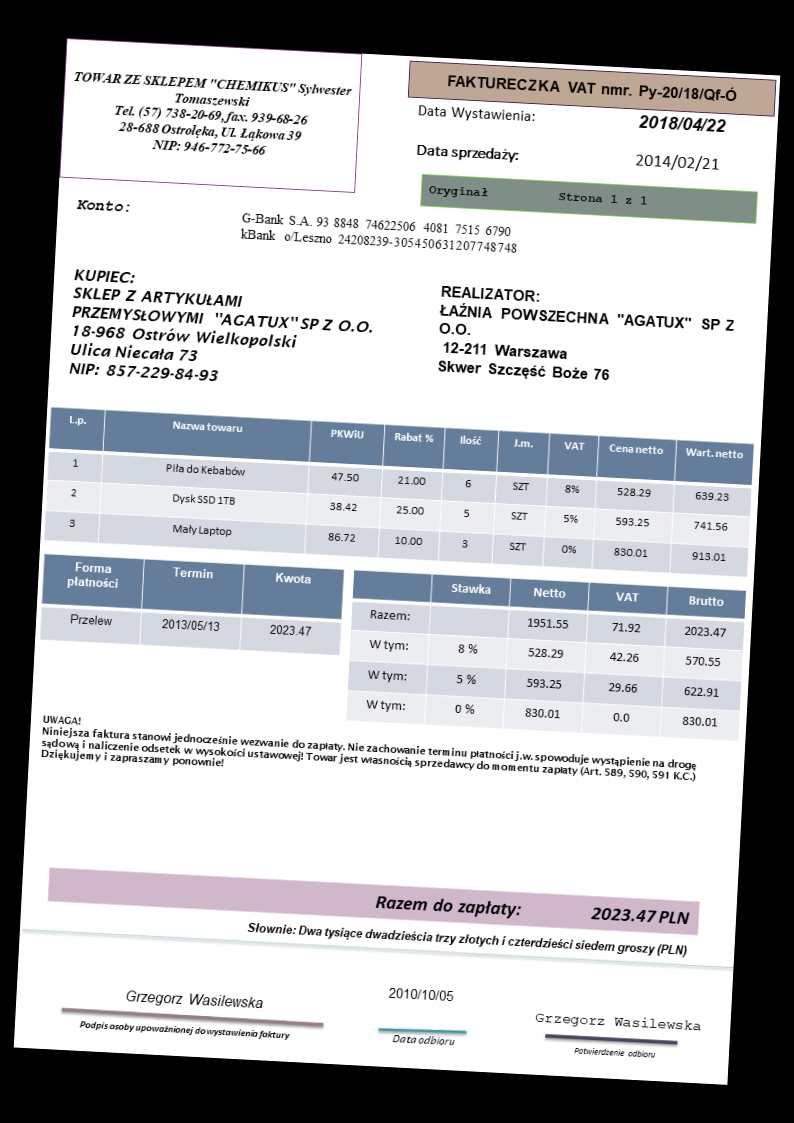Table: (42, 406, 756, 578), (345, 568, 748, 741), (39, 553, 344, 656)
TextBox: (38, 710, 700, 797), (64, 265, 379, 394), (434, 281, 739, 392), (67, 65, 354, 165), (244, 916, 694, 961), (235, 207, 520, 259), (369, 887, 694, 932), (442, 70, 738, 104), (427, 180, 649, 210), (75, 1015, 293, 1043), (530, 1008, 703, 1035), (122, 983, 266, 1013), (416, 101, 537, 126), (414, 139, 522, 166), (633, 109, 729, 138), (632, 149, 723, 176), (570, 1042, 659, 1063), (384, 982, 456, 1006), (390, 1029, 458, 1047), (73, 194, 131, 215)
